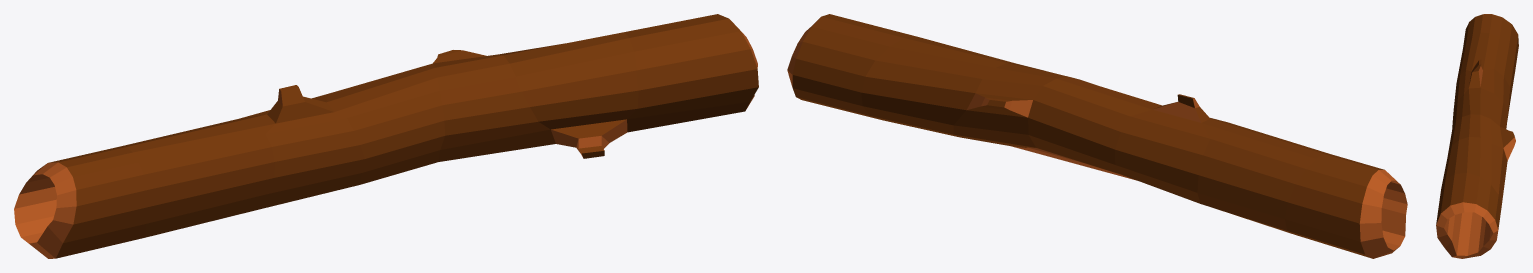
Rendered from logMedium.fbx.
The picture shows the model from 3 angles, left to right: view 1: azimuth 30°, elevation 25°; view 2: azimuth 150°, elevation 25°; view 3: azimuth 270°, elevation 25°; orthographic projection. The views are drawn at different scales.
Parts seen in each view (by area): view 1: Cylinder.036; view 2: Cylinder.036; view 3: Cylinder.036.
Part boxes in pixels (<box>): Cylinder.036: <box>14,14,758,258</box>; Cylinder.036: <box>787,14,1407,258</box>; Cylinder.036: <box>1436,14,1518,258</box>.
Size of the model in its own units: 10.45 by 1.67 by 1.78.
